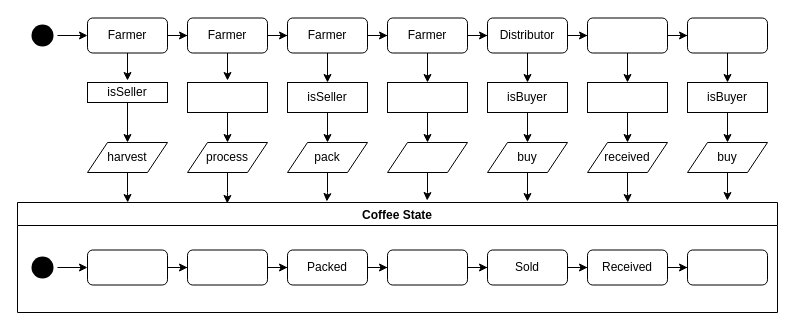
Some shapes in this 795 by 330 pixel diagram are drawn without their labels. The shapes that lost their labels are listed below. From the top down, each one's centre as x and y in pixels, then its label:
[627,35]: Retailer
[727,35]: Consumer
[227,97]: isSeller isHarvested
[427,97]: isSeller isPacked
[627,97]: isReceived
[427,157]: ship
[127,267]: Harvested
[227,267]: Processed
[427,267]: Shipped
[727,267]: Consumed
